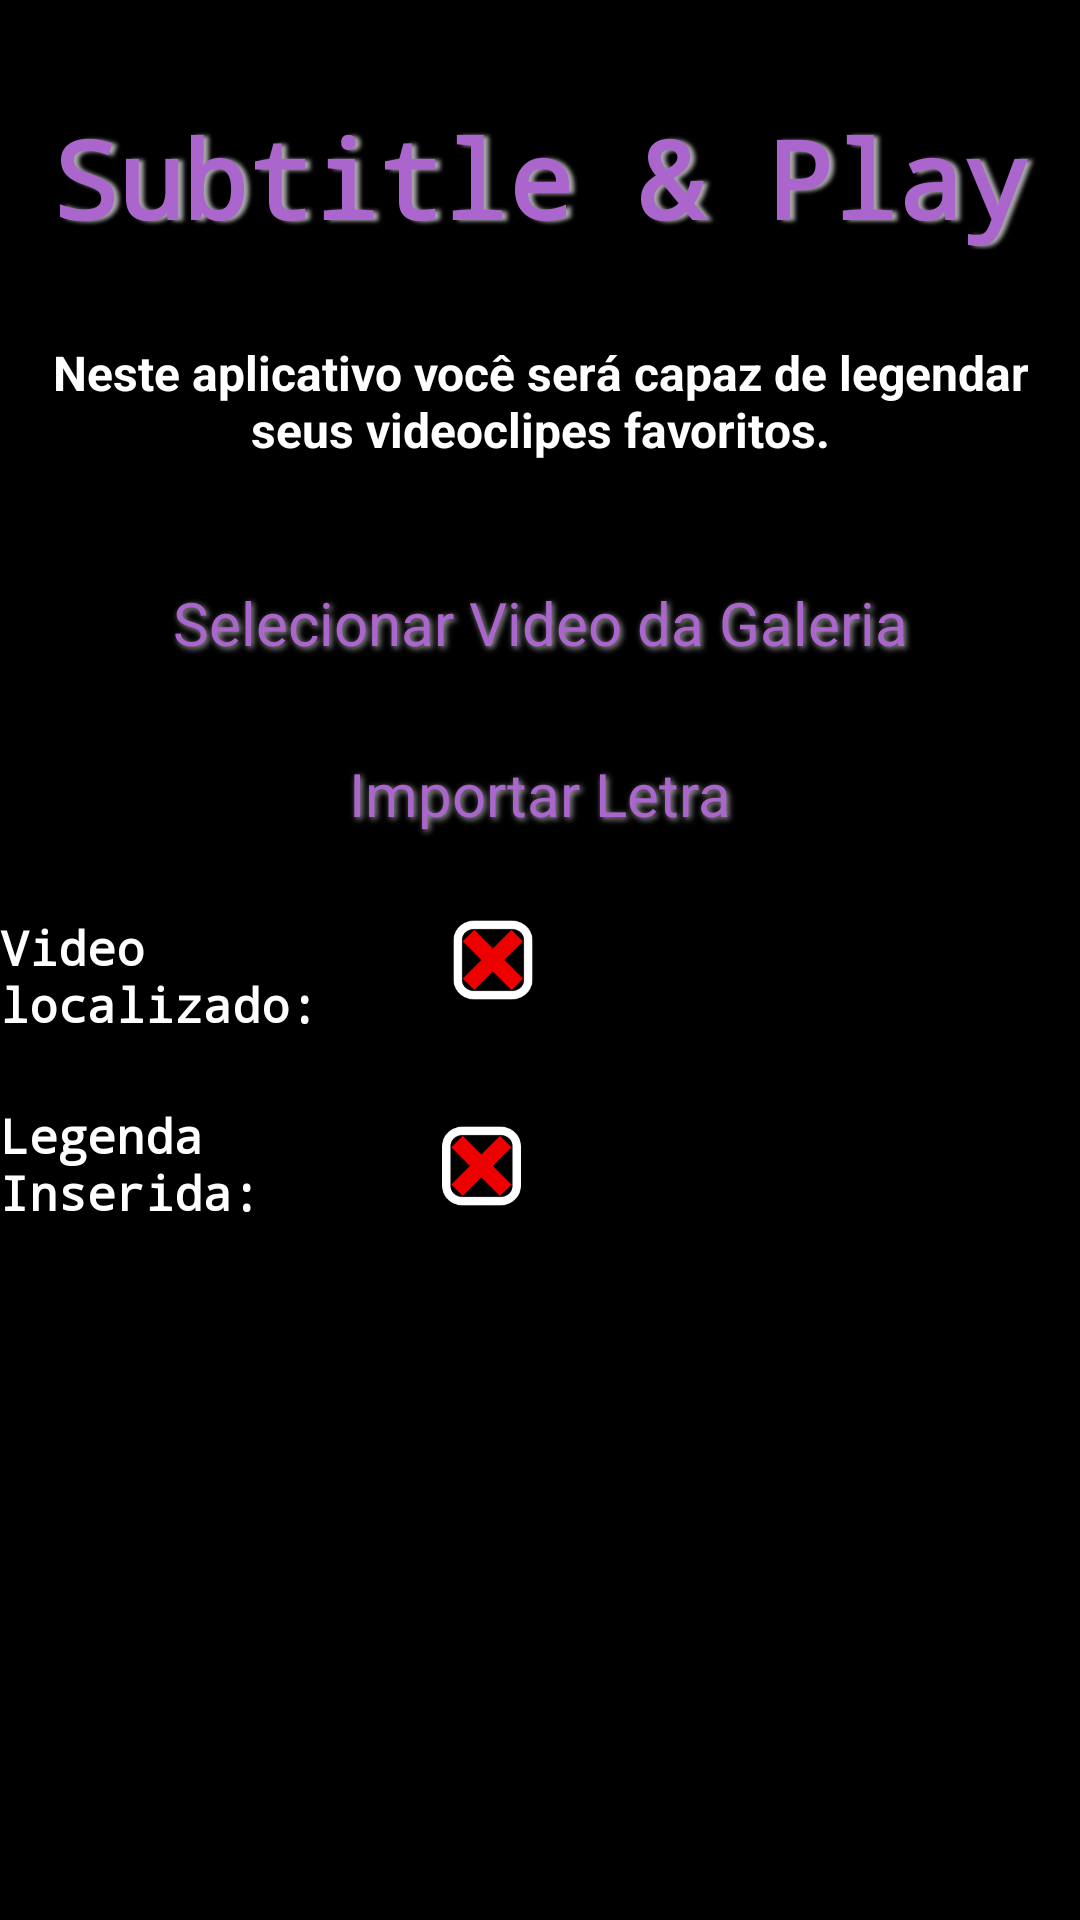

Named icons in this screenshot (1080*1920) and their centers, [x,y]:
not checked: [493,960], [481,1166]
